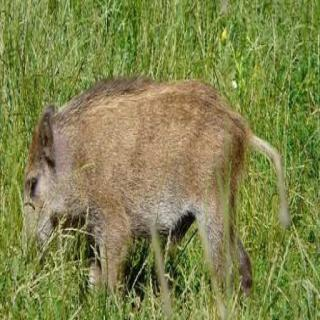Pig: (18, 58, 280, 302)
